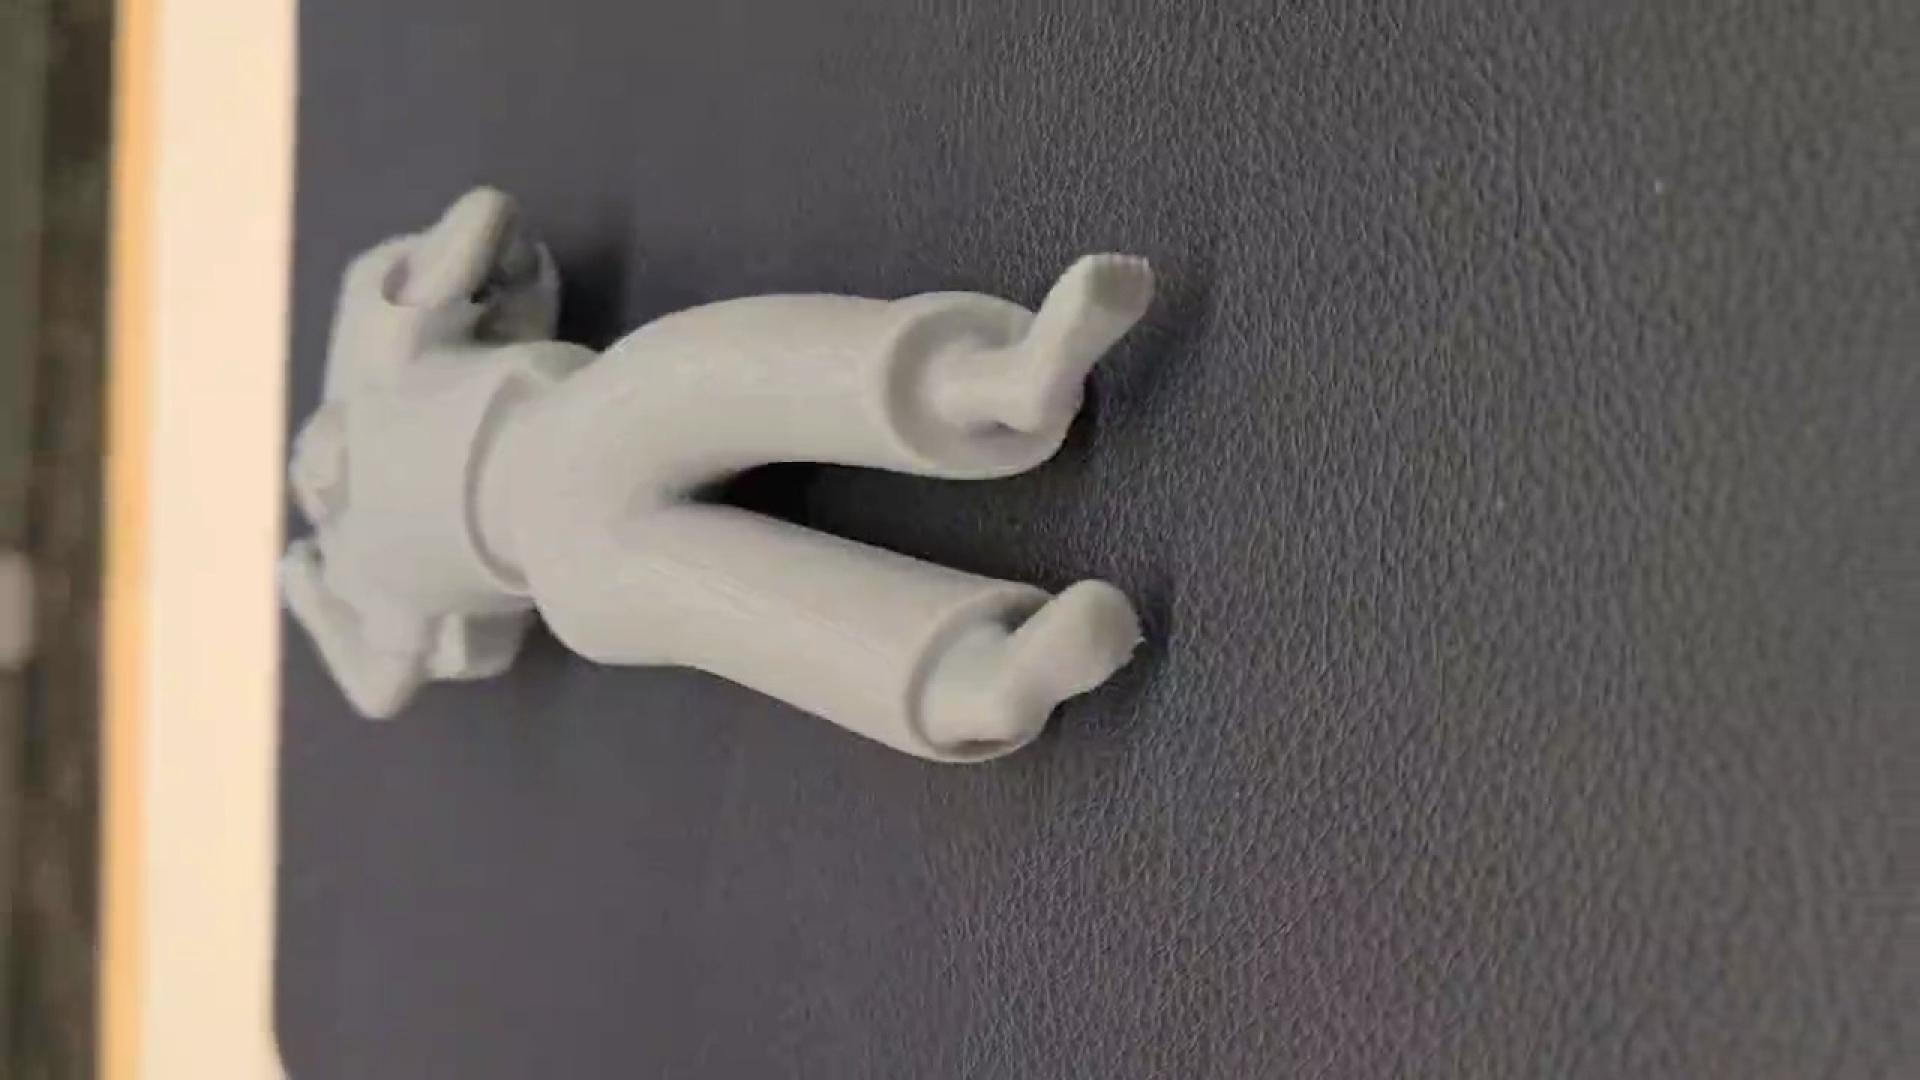Bad-style: (273, 174, 1162, 770)
